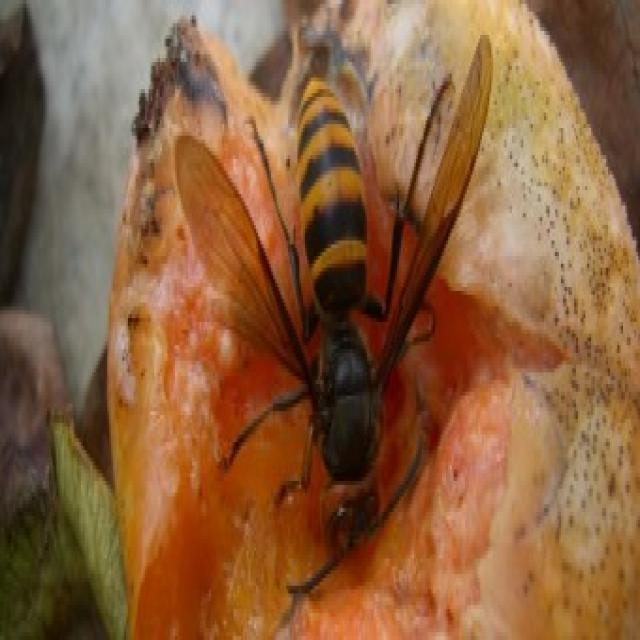Wasp: (170, 25, 498, 559)
